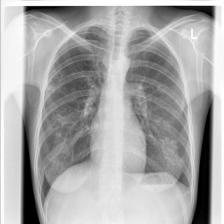tuberculosis: (32, 20, 198, 206)
